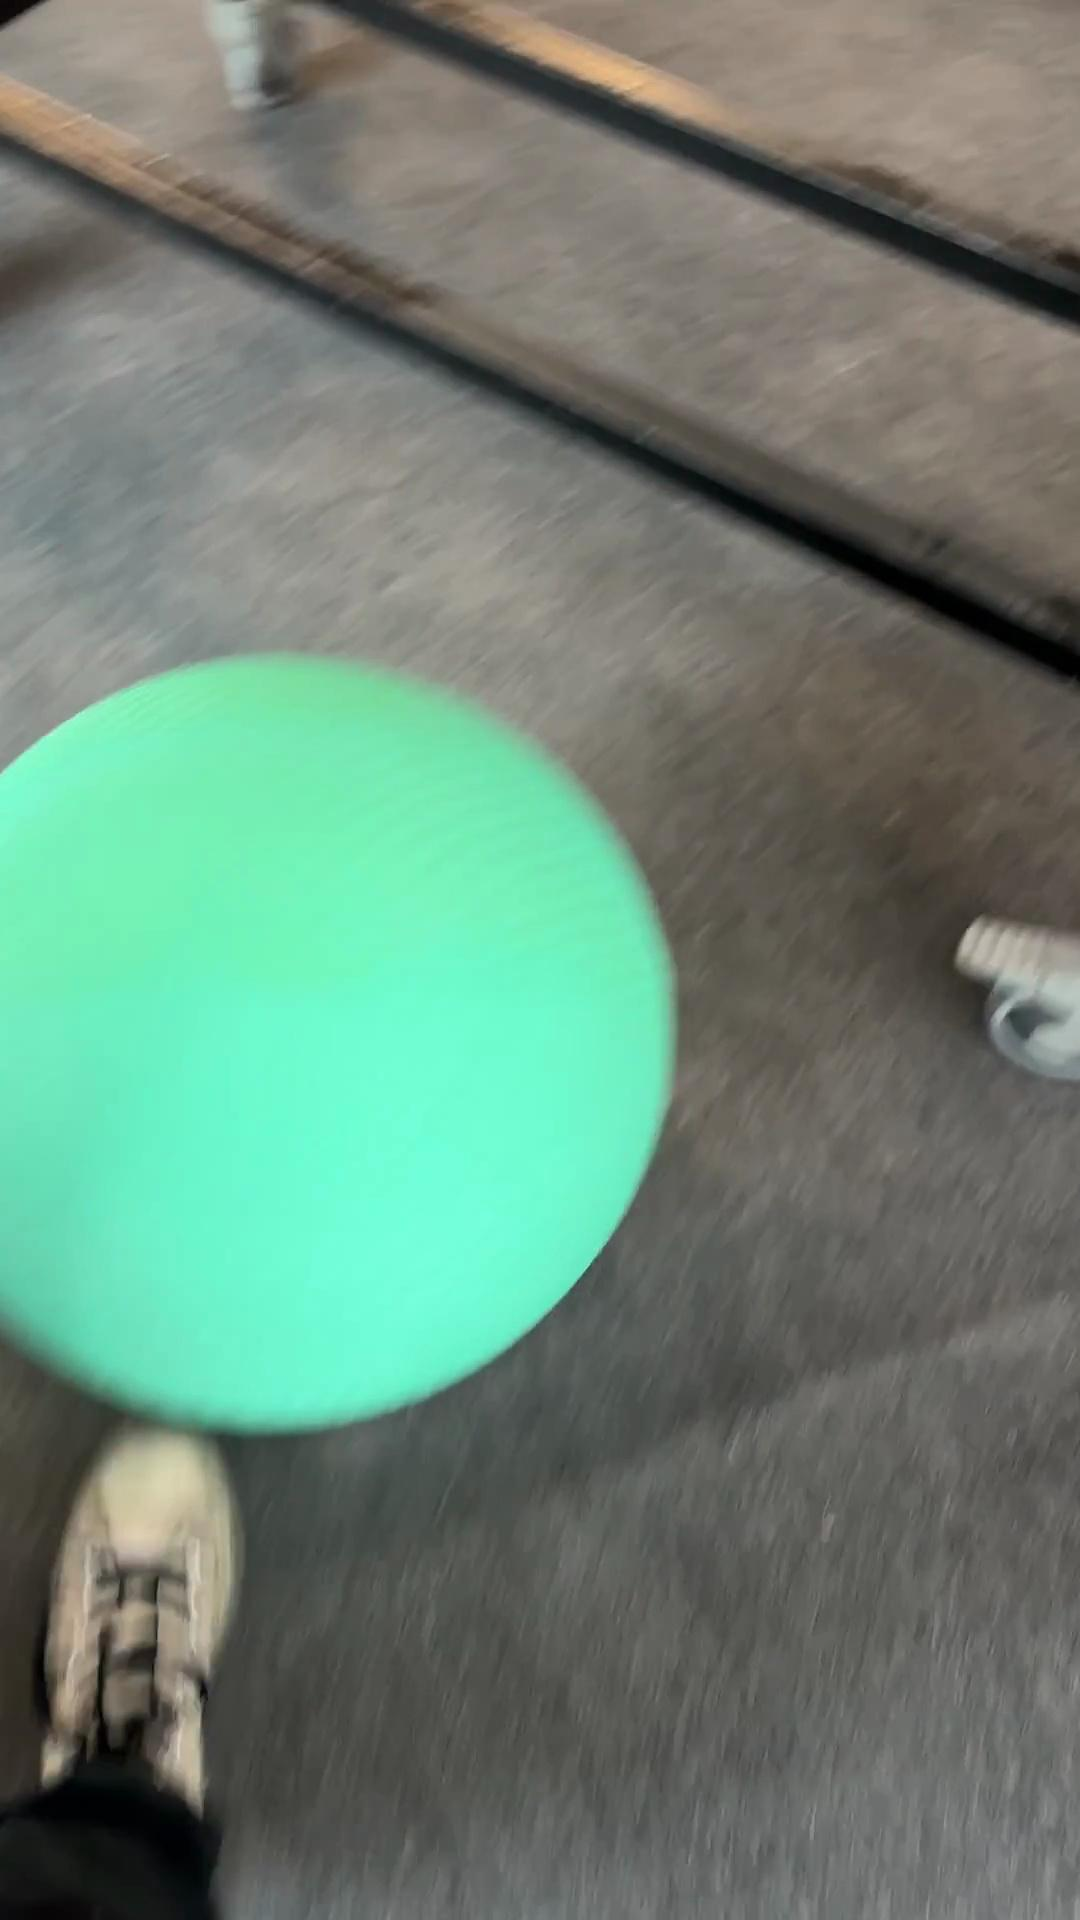ALGAE: (1, 647, 679, 1437)
